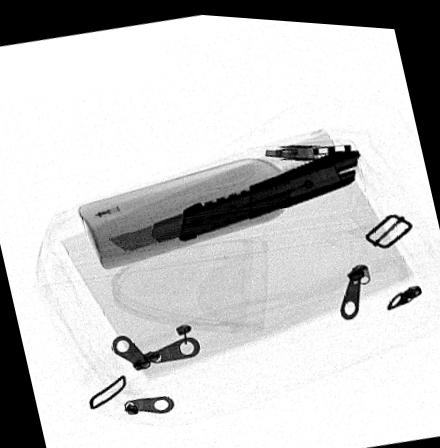Knife: (106, 143, 361, 251)
